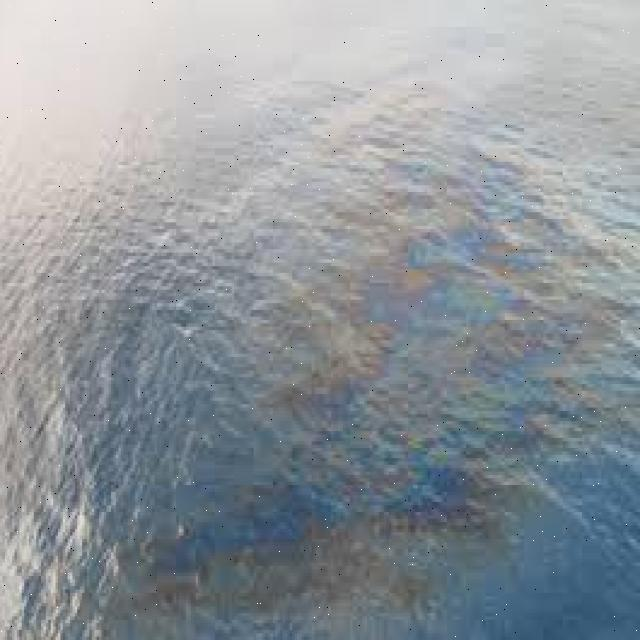oil spill: (254, 175, 570, 638)
